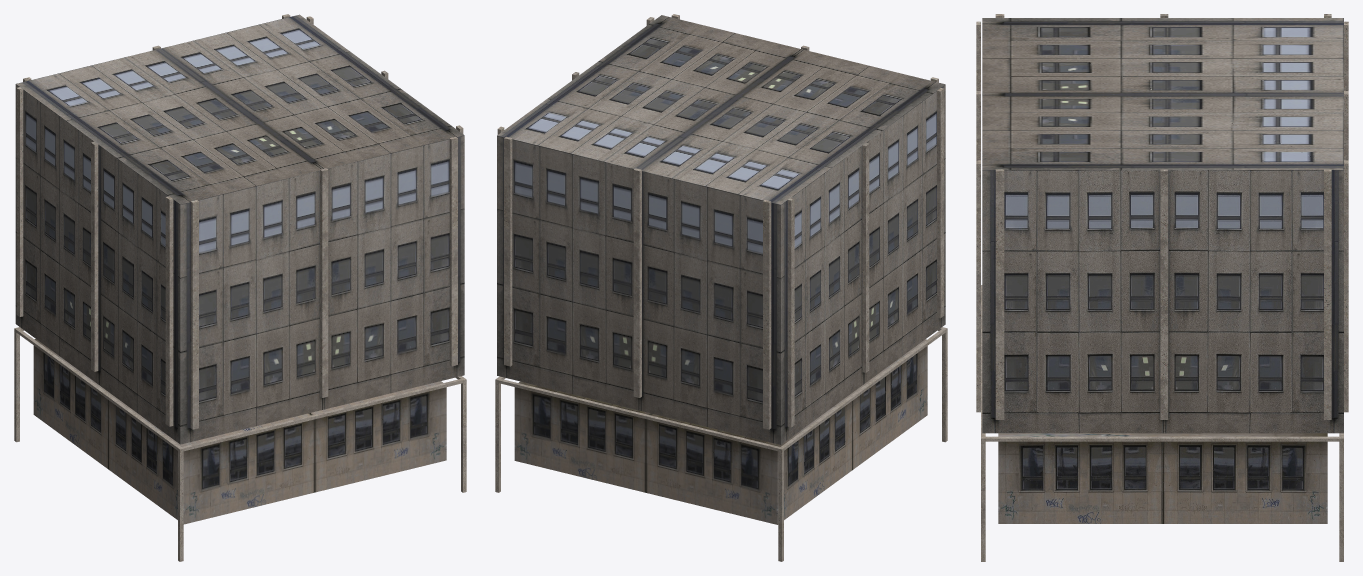
File: BagSS01base_0.fbx
3 renders of one model, left to right at view 1: azimuth 30°, elevation 25°; view 2: azimuth 150°, elevation 25°; view 3: azimuth 270°, elevation 25°, orthographic. The views are drawn at different scales.
Parts seen in each view (by area): view 1: boxtop0, boxB0, trim0; view 2: boxtop0, boxB0, trim0; view 3: boxtop0, boxB0, trim0.
Part boxes in pixels (x1=…): boxtop0: x1=15, y1=14, x2=464, y2=444; boxB0: x1=33, y1=339, x2=446, y2=524; trim0: x1=14, y1=14, x2=466, y2=561; boxtop0: x1=497, y1=15, x2=945, y2=444; boxB0: x1=514, y1=339, x2=927, y2=524; trim0: x1=495, y1=14, x2=947, y2=561; boxtop0: x1=982, y1=18, x2=1343, y2=433; boxB0: x1=998, y1=433, x2=1327, y2=523; trim0: x1=976, y1=14, x2=1348, y2=561.
Bounding box in the file's own units: 17.99 × 20.93 × 17.98.
